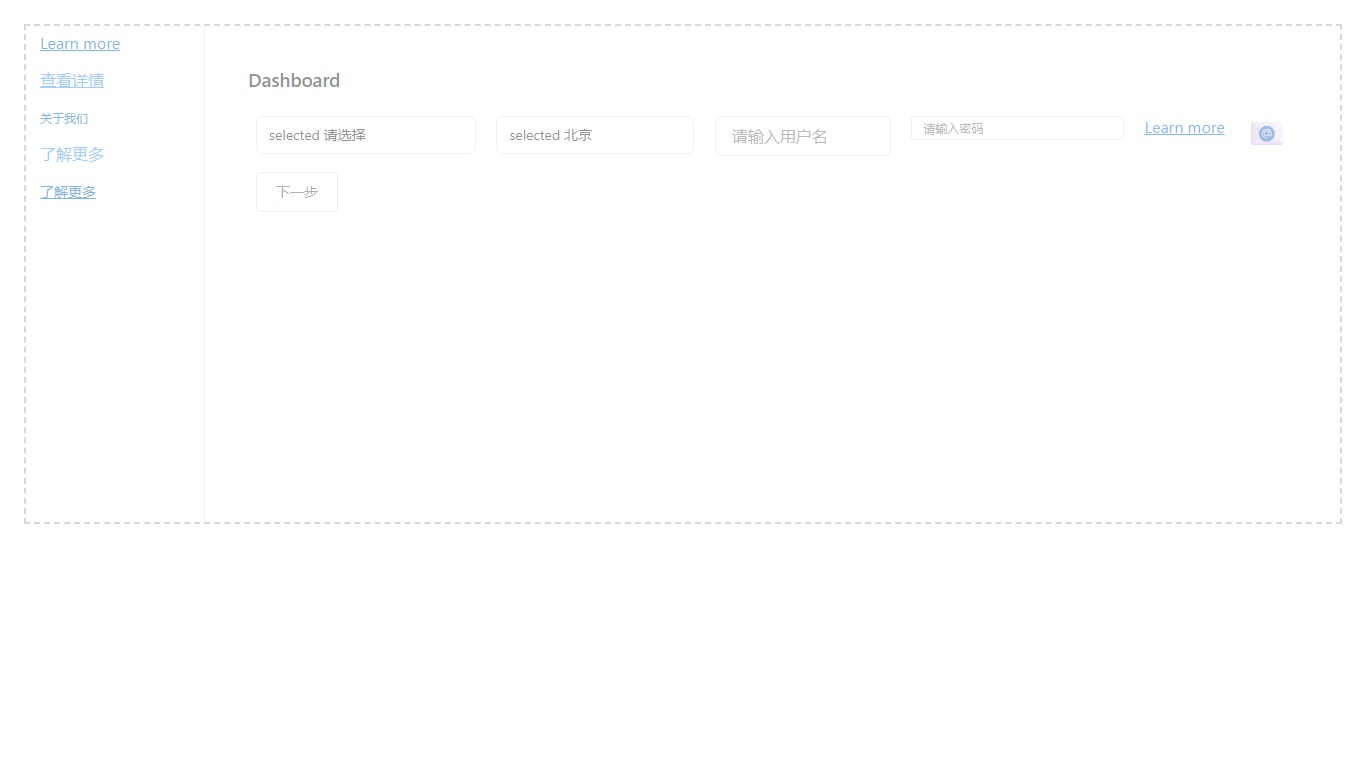button: (256, 172, 338, 212)
icon: (1245, 116, 1289, 148)
input: (715, 116, 891, 156), (911, 116, 1124, 140)
link: (40, 32, 120, 53), (1145, 116, 1225, 137), (40, 69, 104, 90), (40, 143, 104, 164), (40, 182, 96, 201), (40, 110, 88, 126)
modal: (24, 24, 1342, 524)
select: (256, 116, 476, 154), (496, 116, 694, 154)
